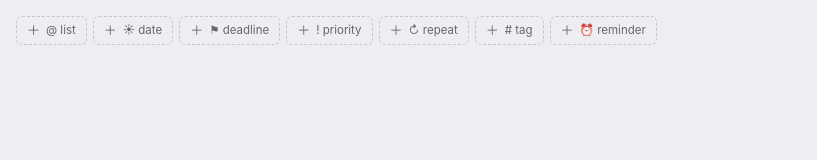
Scenario: what a reminder counts back from › offers only the calendar when the task has neither
Click the button "＋ ⏰ reminder".
click(603, 30)  # box x1=550 y1=16 x2=657 y2=45
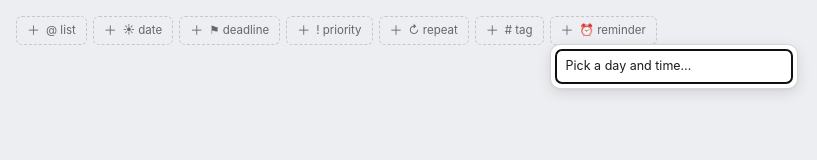
Result: the button "Pick a day and time…" is shown at x1=556 y1=50 x2=792 y2=83
